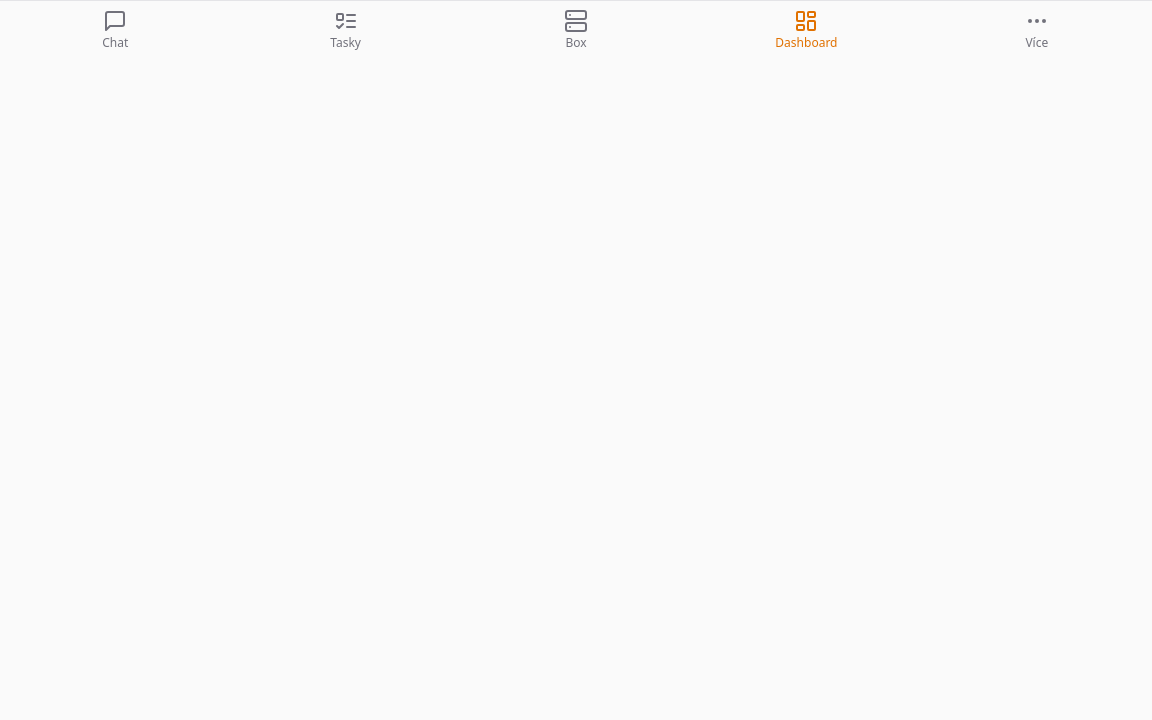
BottomNav › opens the Více sheet listing secondary items
Click the button "Více". click: click(1037, 29)
box: [922,1,1151,57]
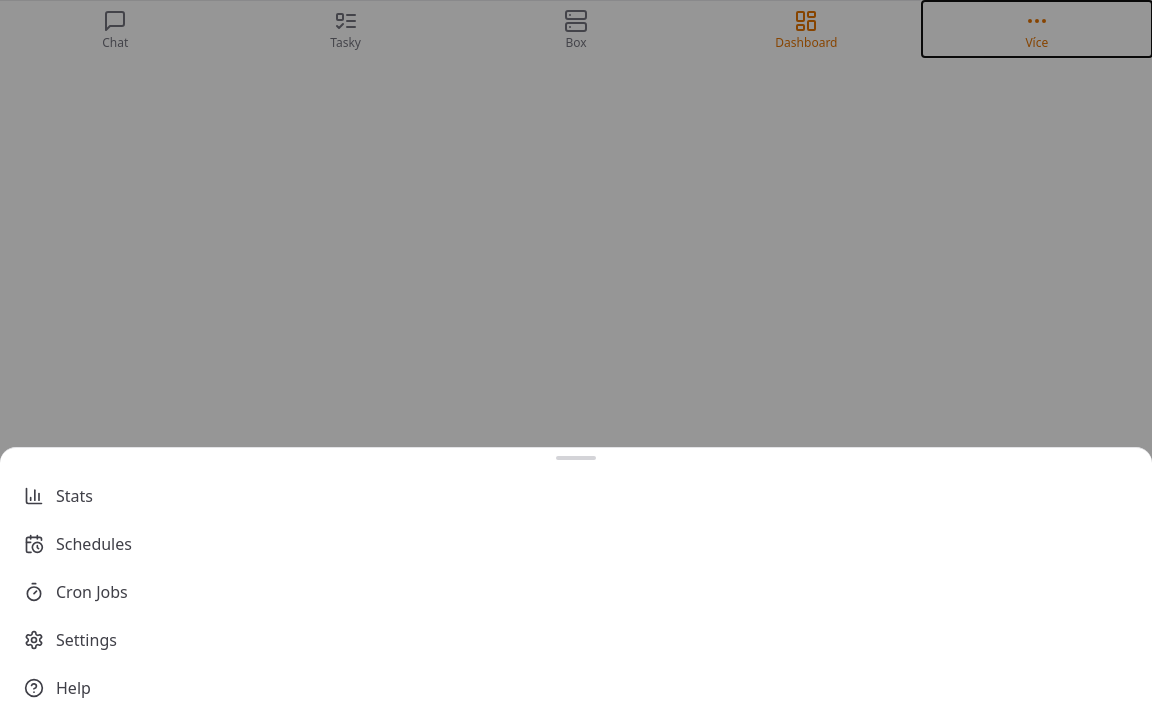
Result: the buttons read "Stats", "Schedules", "Cron Jobs", "Settings", "Help", in this order at [8,472,1144,520]; [8,520,1144,568]; [8,568,1144,616]; [8,616,1144,664]; [8,664,1144,712]
